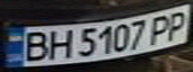0: (112, 20, 133, 52)
1: (93, 24, 115, 55)
5: (75, 25, 100, 57)
7: (127, 17, 151, 48)
B: (15, 28, 54, 63)
H: (42, 27, 75, 61)
P: (160, 8, 193, 42), (145, 11, 175, 45)
